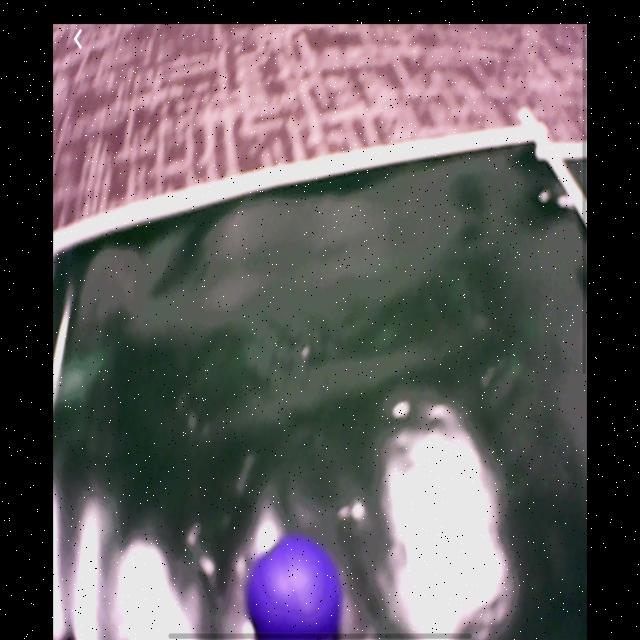ball: (249, 532, 340, 637)
